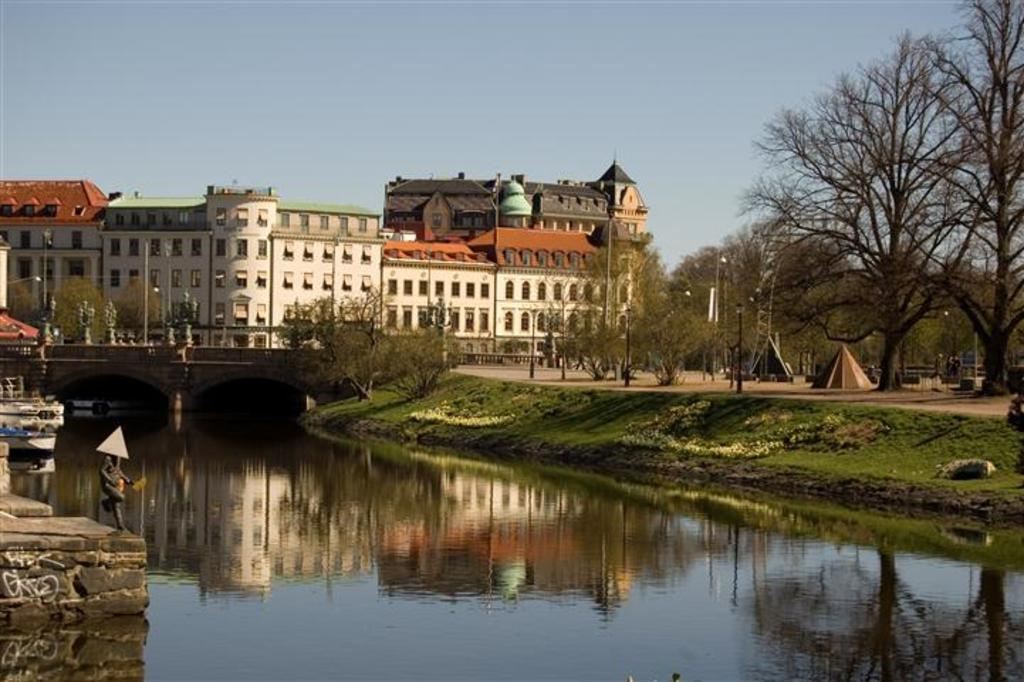Tree: (7, 0, 1023, 401)
